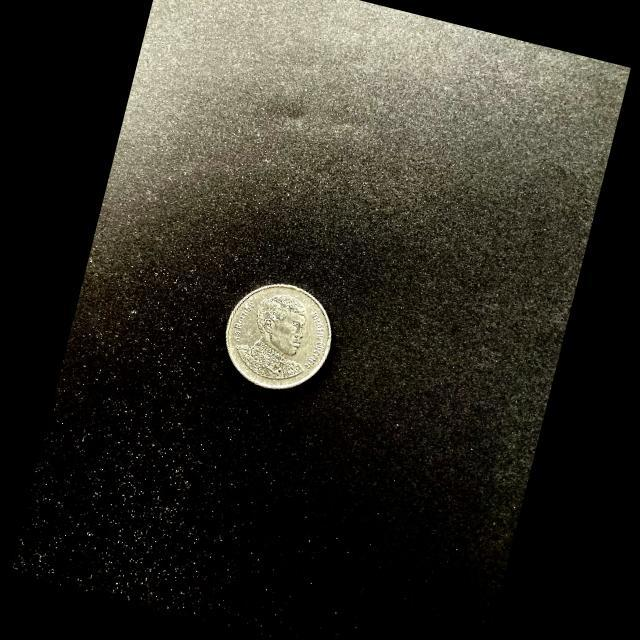1 Bath: (223, 283, 335, 394)
